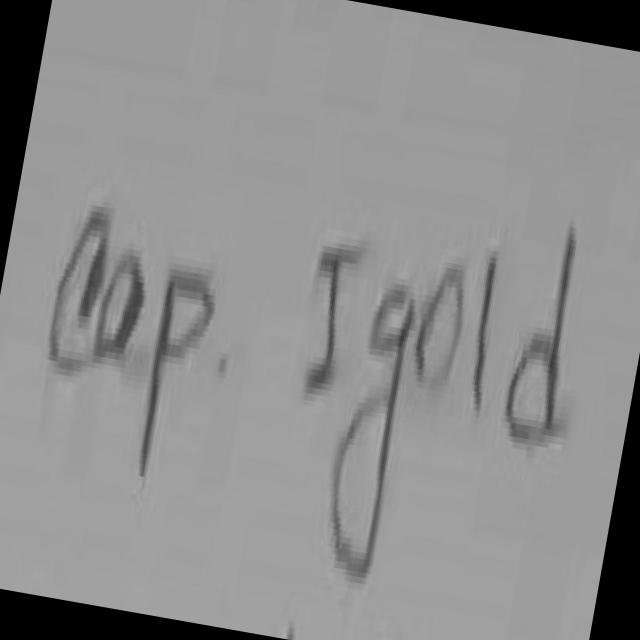C: (52, 211, 108, 367)
I: (308, 246, 363, 390)
a: (95, 249, 146, 385)
d: (506, 227, 577, 448), (514, 357, 548, 423)
g: (334, 283, 416, 581)
l: (475, 257, 498, 408)
o: (418, 268, 463, 382)
p: (143, 274, 214, 473)
